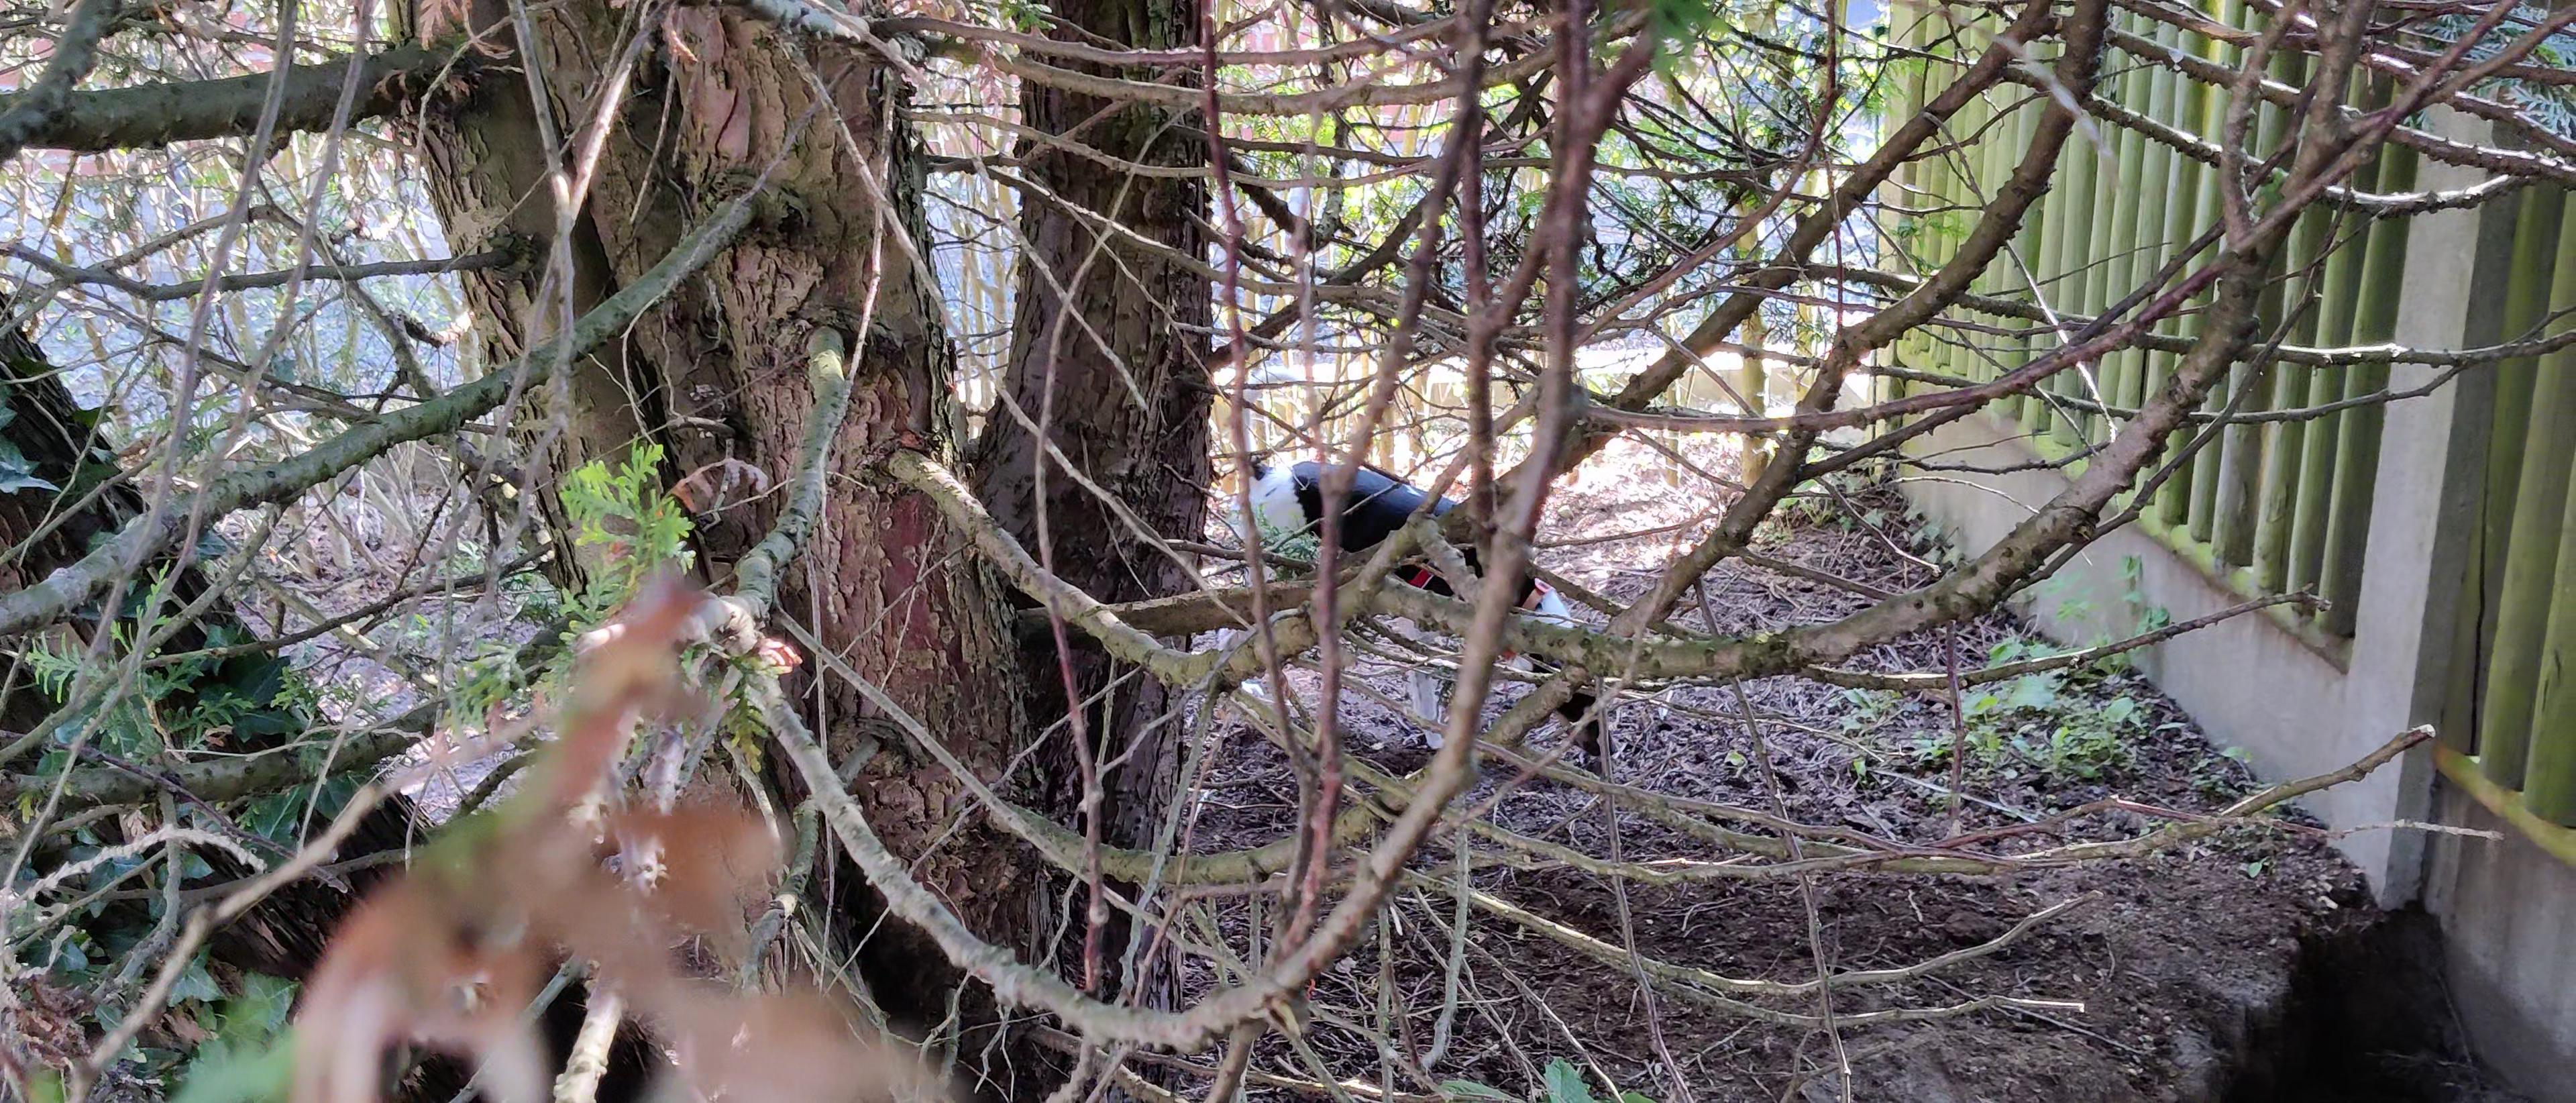Dog: (1221, 350, 1640, 774)
